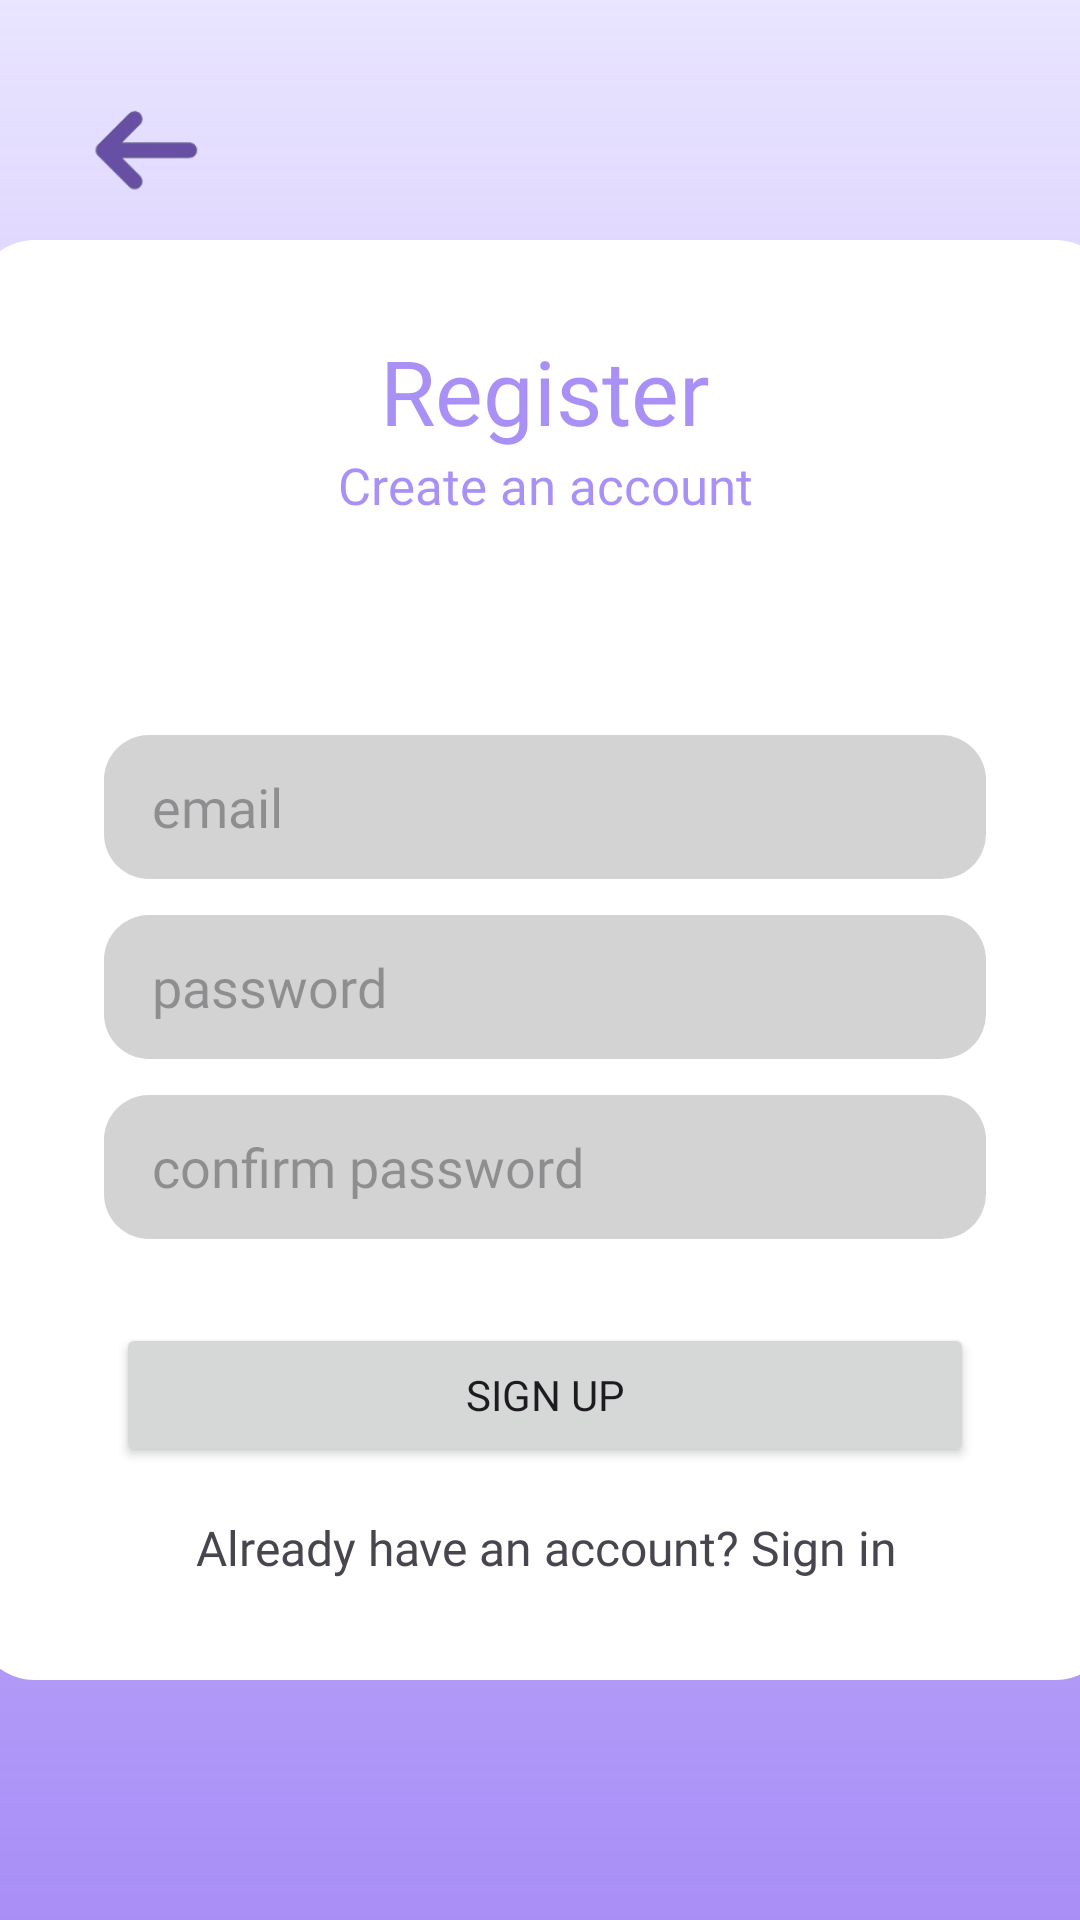

Named icons in this screenshot (1080w x 1920h) and their bounding boxes, (x1, y1, x2, y2):
back: (95, 111, 198, 190)
